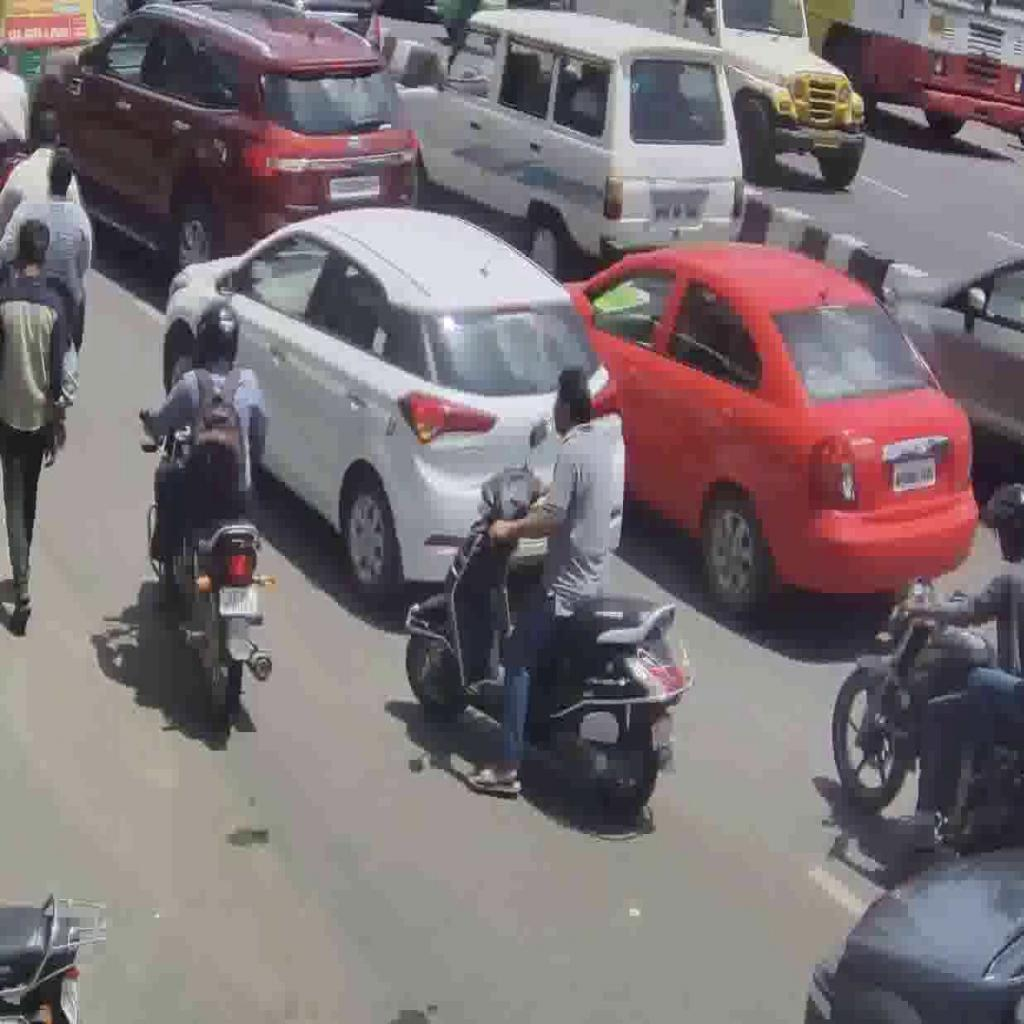helmet: (403, 463, 696, 828), (831, 574, 1023, 848), (138, 398, 278, 720)
